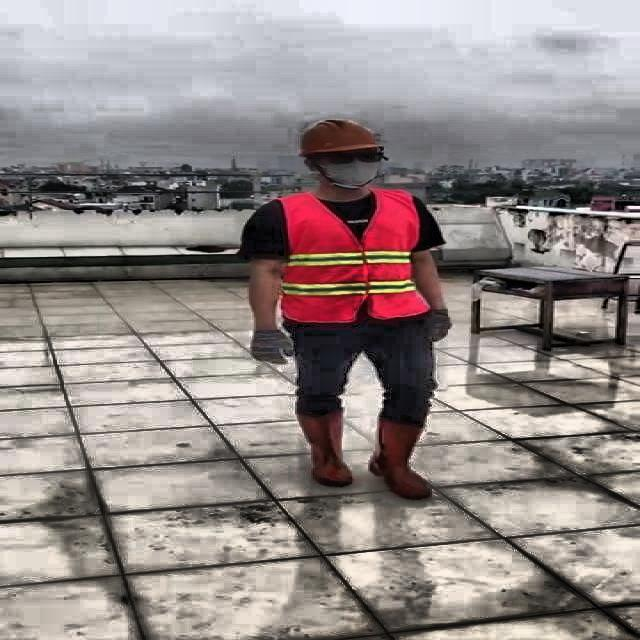safety_helmet: (291, 116, 387, 157)
safety_jacket: (271, 191, 428, 320)
